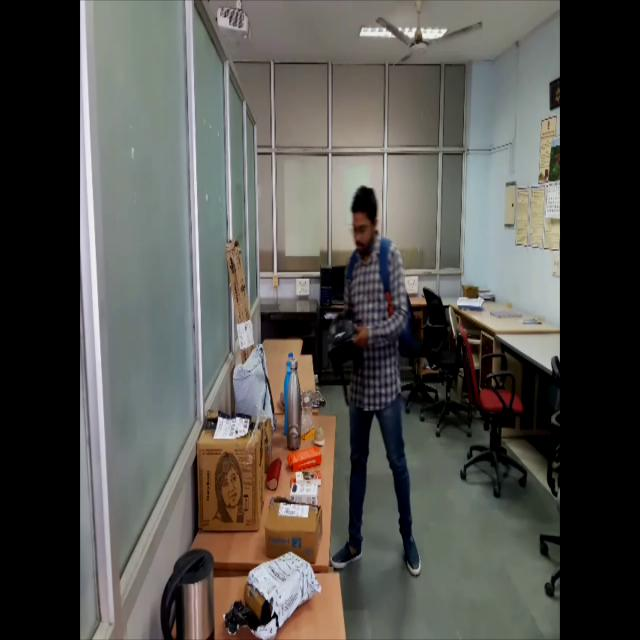normal: (322, 178, 422, 592)
